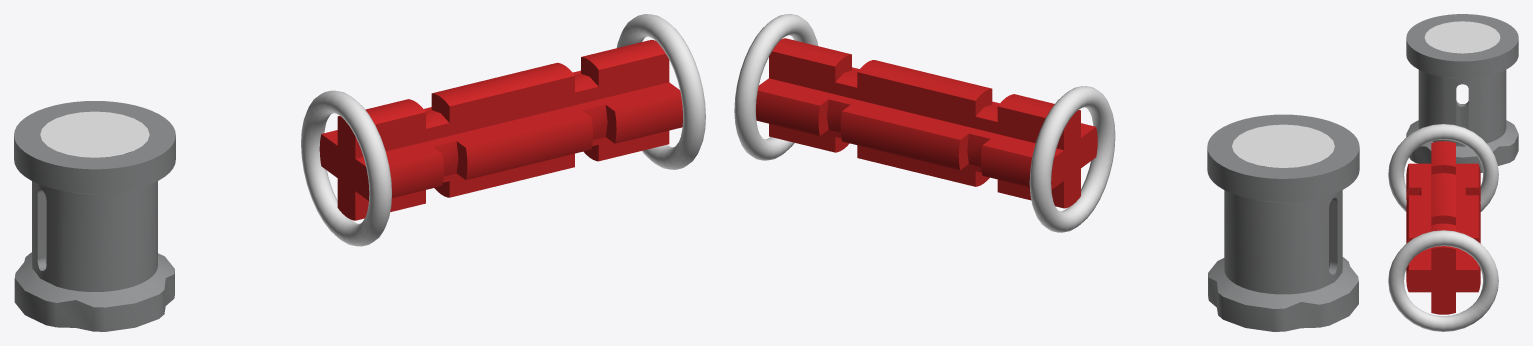
The model's file is fix.fbx.
The picture shows the model from 3 angles, left to right: view 1: azimuth 30°, elevation 25°; view 2: azimuth 150°, elevation 25°; view 3: azimuth 270°, elevation 25°; orthographic projection. The views are drawn at different scales.
Visible parts, largest first — view 1: Axle 2m, Axle Bush, SnapDonut, SnapDonut.001, SnapCircle; view 2: Axle 2m, Axle Bush, SnapDonut, SnapDonut.001, SnapCircle; view 3: Axle Bush, Axle 2m, SnapDonut.001, SnapDonut, SnapCircle.
Part boxes in pixels (left/top/right/bottom): Axle 2m: left=319, top=39, right=682, bottom=220; Axle Bush: left=14, top=101, right=175, bottom=331; SnapDonut: left=301, top=90, right=391, bottom=246; SnapDonut.001: left=616, top=14, right=705, bottom=169; SnapCircle: left=40, top=111, right=149, bottom=157; Axle 2m: left=756, top=38, right=1097, bottom=208; Axle Bush: left=1207, top=114, right=1359, bottom=331; SnapDonut: left=1029, top=86, right=1115, bottom=232; SnapDonut.001: left=734, top=14, right=818, bottom=160; SnapCircle: left=1232, top=124, right=1334, bottom=167; Axle Bush: left=1406, top=14, right=1518, bottom=172; Axle 2m: left=1406, top=141, right=1480, bottom=314; SnapDonut.001: left=1388, top=230, right=1498, bottom=331; SnapDonut: left=1388, top=124, right=1498, bottom=211; SnapCircle: left=1424, top=21, right=1500, bottom=53.
Size of the model in its own units: 320 by 79.3 by 82.55.
